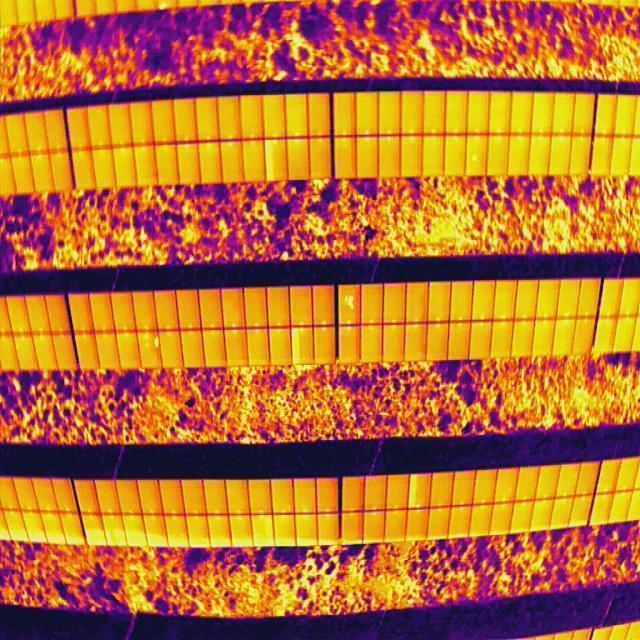diode: (265, 140, 278, 181), (292, 327, 303, 365), (409, 473, 420, 509)
hotspot: (138, 332, 160, 353), (343, 292, 356, 314)
